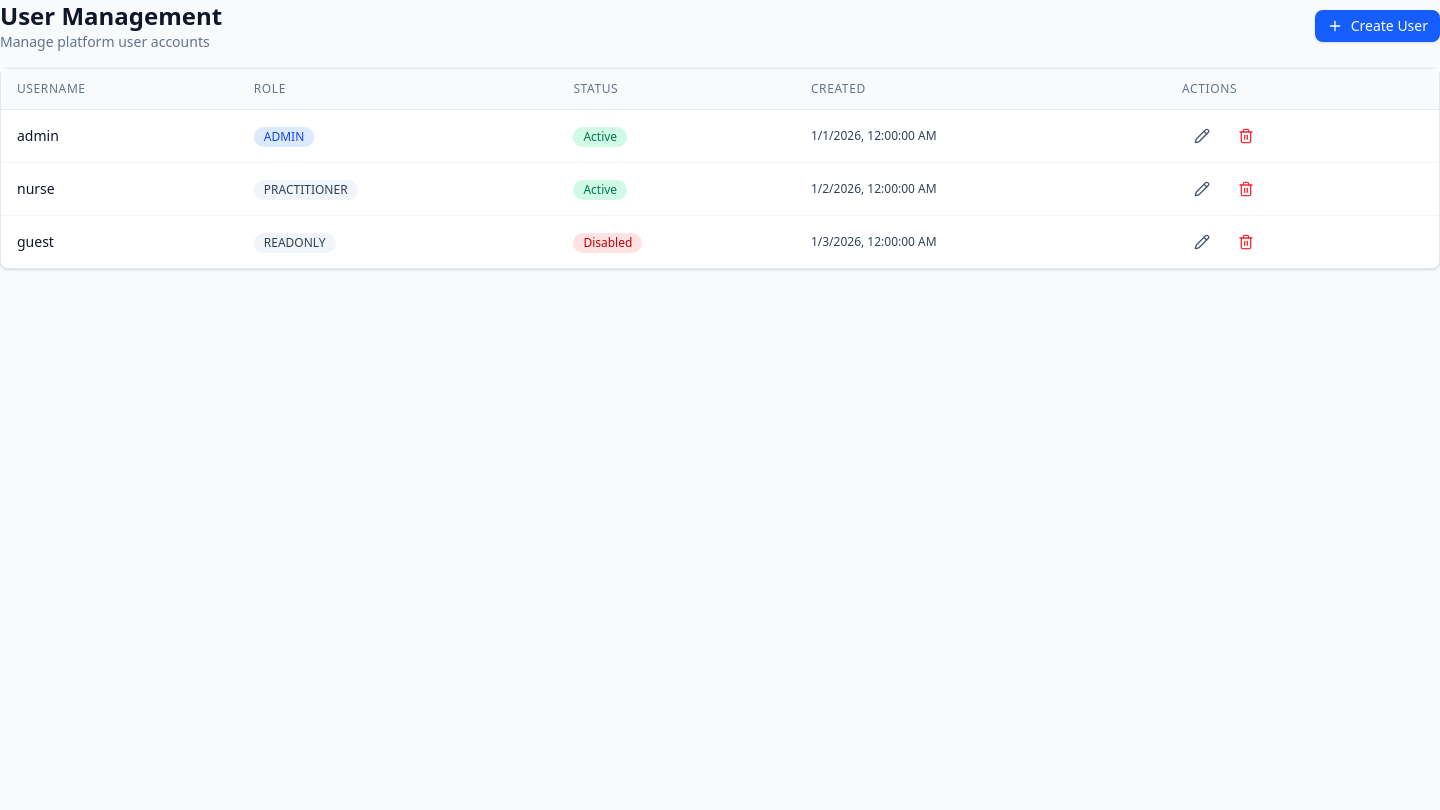
Test: UserManagement › opens delete confirmation when the trash icon is clicked
Click the 3rd button: [1246, 136] box [1226,122,1266,150]
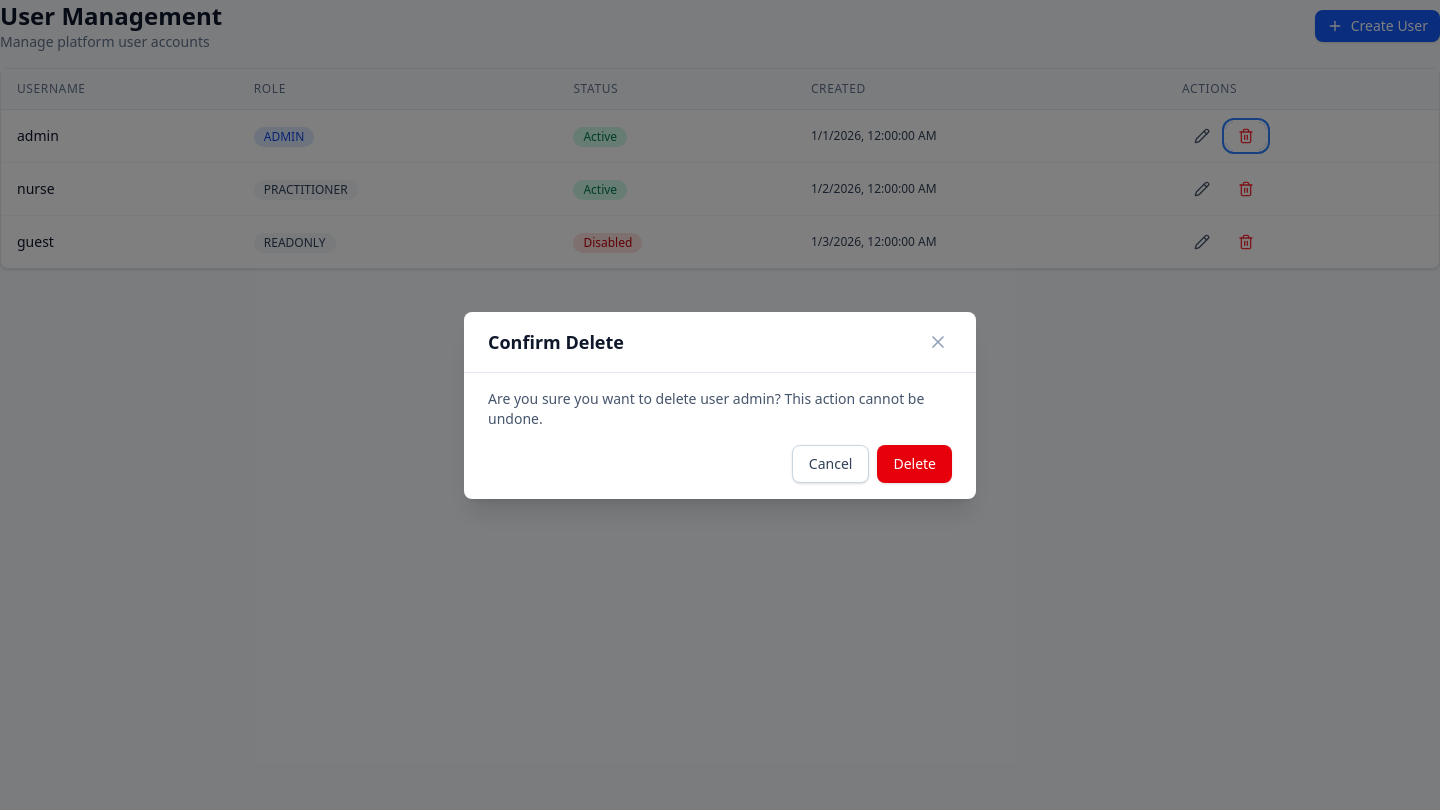
Result: the heading "Confirm Delete" is shown at [488,328,624,356]
Result: the button "Delete" is shown at [877,444,952,482]
